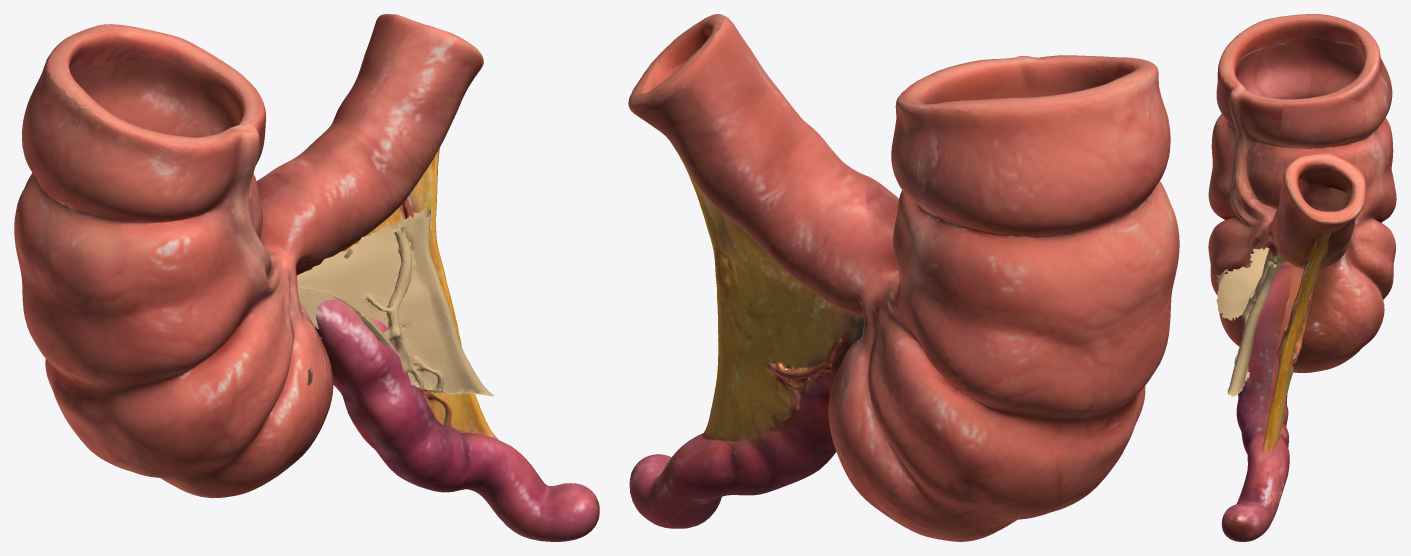
Rendered from 01-covered.glb.
3 views of the same model, side by side, from view 1: azimuth 30°, elevation 25°; view 2: azimuth 150°, elevation 25°; view 3: azimuth 270°, elevation 25° (orthographic). The views are drawn at different scales.
Visible parts, largest first — view 1: cecum, ileum, appendix, OrganCover, mesoappendix; view 2: cecum, ileum, mesoappendix, appendix; view 3: cecum, ileum, appendix, mesoappendix, OrganCover.
Boxes of the visible parts, x1,y1,x2,y2 form: cecum: [14, 24, 333, 498]; ileum: [275, 14, 483, 308]; appendix: [320, 299, 599, 541]; OrganCover: [297, 208, 493, 396]; mesoappendix: [332, 189, 496, 438]; cecum: [828, 55, 1179, 541]; ileum: [628, 14, 882, 319]; mesoappendix: [701, 208, 856, 448]; appendix: [629, 370, 836, 528]; cecum: [1208, 14, 1396, 372]; ileum: [1273, 153, 1365, 279]; appendix: [1221, 274, 1289, 541]; mesoappendix: [1252, 274, 1349, 453]; OrganCover: [1216, 247, 1282, 396].
Bounding box in the file's own units: 1.8 × 1.8 × 0.8195.
2 materials, 1 textured.
